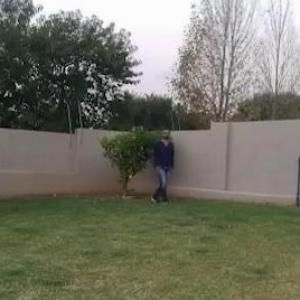follow: (151, 125, 171, 207)
